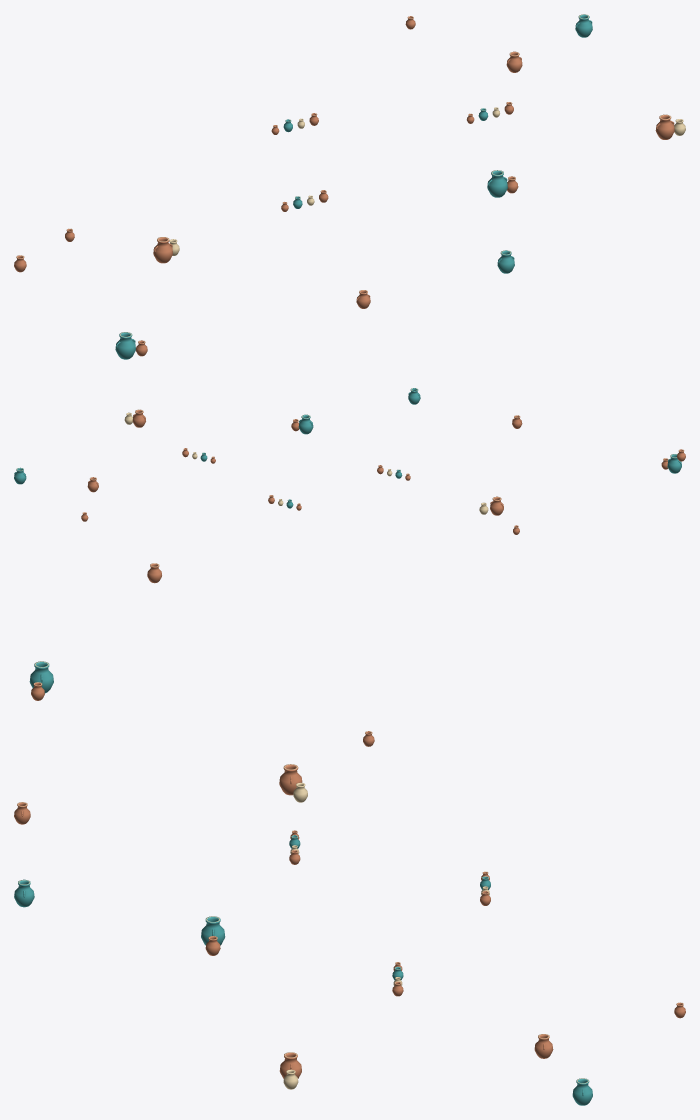
File: SM_HandThrownPottery.fbx
The picture shows the model from 3 angles, top to bottom: view 1: azimuth 30°, elevation 25°; view 2: azimuth 150°, elevation 25°; view 3: azimuth 270°, elevation 25°; orthographic projection. The views are drawn at different scales.
Parts seen in each view (by area): view 1: SM_HandThrownPottery_Export; view 2: SM_HandThrownPottery_Export; view 3: SM_HandThrownPottery_Export.
Part boxes in pixels (<box>): SM_HandThrownPottery_Export: <box>14,14,685,359</box>; SM_HandThrownPottery_Export: <box>14,388,685,534</box>; SM_HandThrownPottery_Export: <box>14,563,685,1105</box>.
Size of the model in its own units: 5295 by 3453 by 643.
